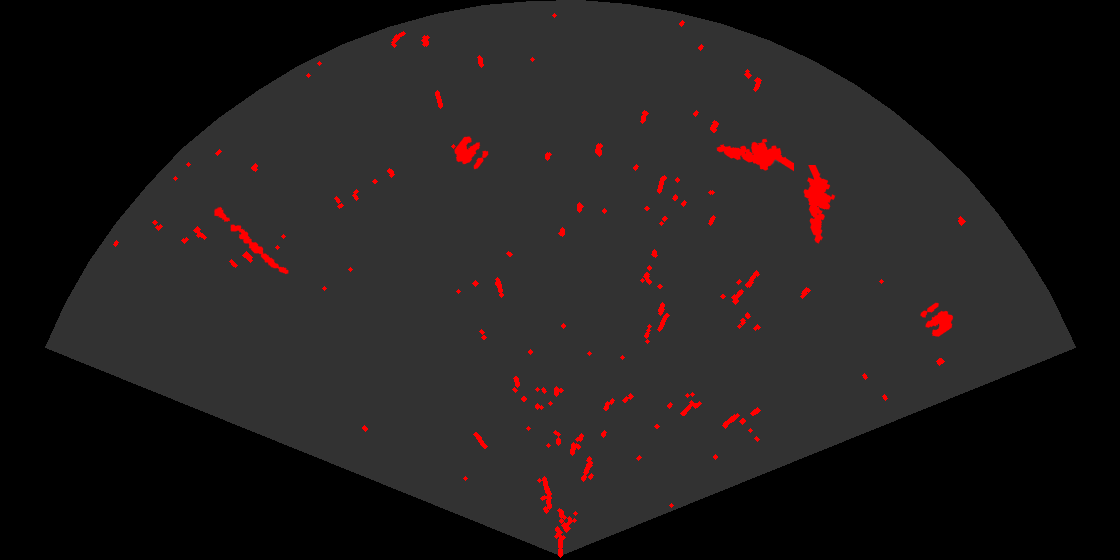ball: (919, 301, 955, 338), (453, 135, 490, 171)
chain: (213, 205, 290, 276)
frogman: (715, 137, 794, 173), (802, 165, 837, 245)
